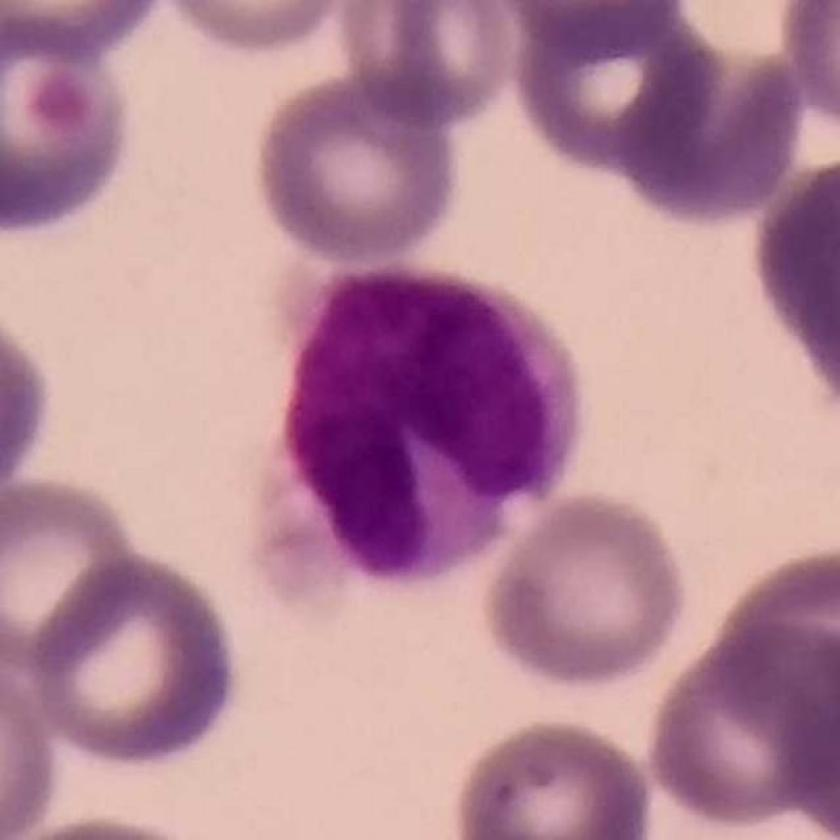monocyte: (245, 240, 601, 635)
